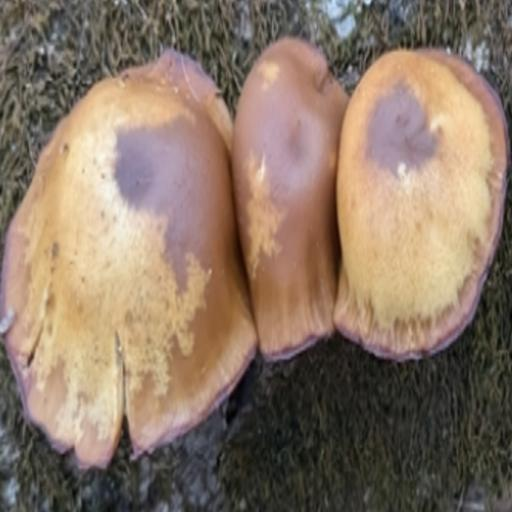mushroom: (3, 47, 511, 466)
